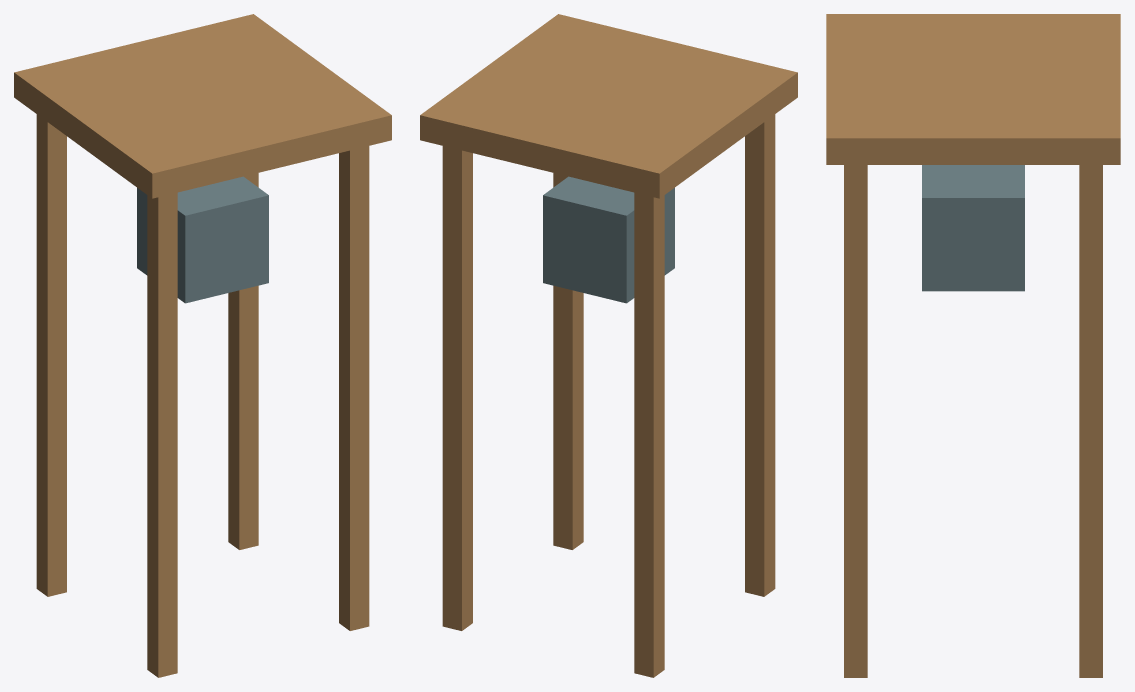
Rendered from residential_large.glb.
3 views of the same model, side by side, from view 1: azimuth 30°, elevation 25°; view 2: azimuth 150°, elevation 25°; view 3: azimuth 270°, elevation 25° (orthographic). The views are drawn at different scales.
Parts seen in each view (by area): view 1: bell-tower-static-bell-timber, bell-tower-static-bell-metal; view 2: bell-tower-static-bell-timber, bell-tower-static-bell-metal; view 3: bell-tower-static-bell-timber, bell-tower-static-bell-metal.
Boxes of the visible parts, x1,y1,x2,y2 form: bell-tower-static-bell-timber: [14, 14, 391, 677]; bell-tower-static-bell-metal: [137, 176, 268, 303]; bell-tower-static-bell-timber: [420, 14, 797, 677]; bell-tower-static-bell-metal: [543, 176, 674, 303]; bell-tower-static-bell-timber: [826, 14, 1120, 677]; bell-tower-static-bell-metal: [922, 165, 1024, 291].
Size of the model in its own units: 2 by 4.1 by 2.
